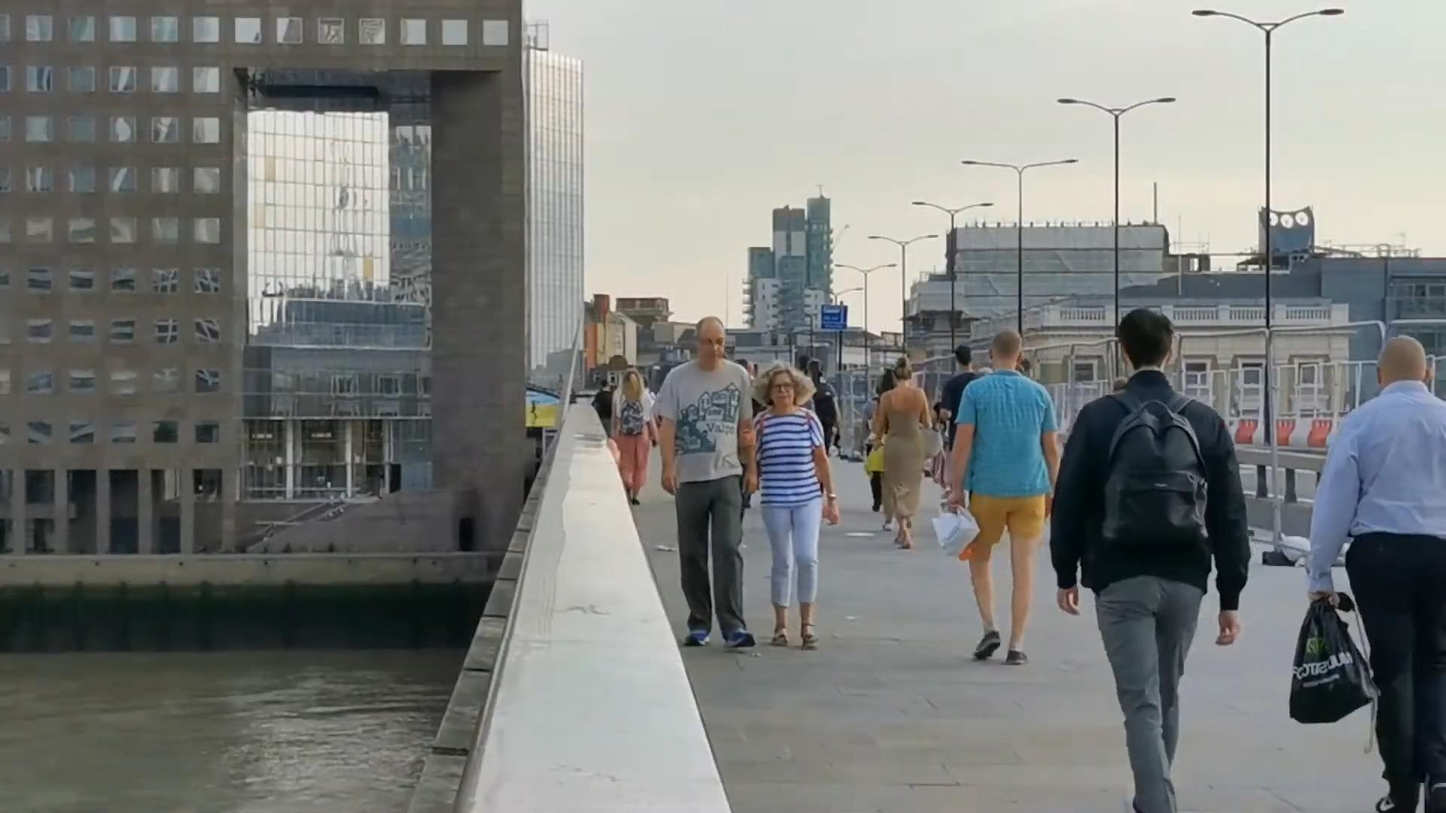no-helmet: (1117, 307, 1175, 378), (752, 361, 817, 410), (1376, 336, 1429, 389), (694, 316, 725, 365), (989, 329, 1022, 369), (622, 368, 643, 400), (892, 358, 913, 388), (955, 345, 972, 370)
